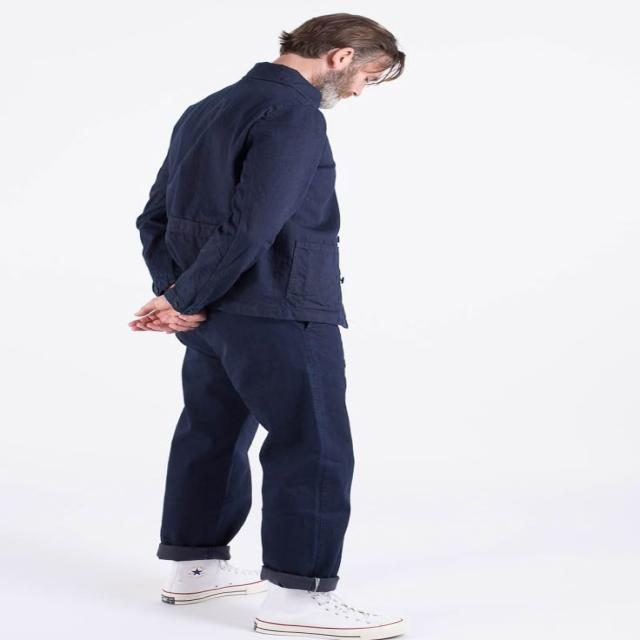9_cabeza_baja: (268, 12, 409, 110)
